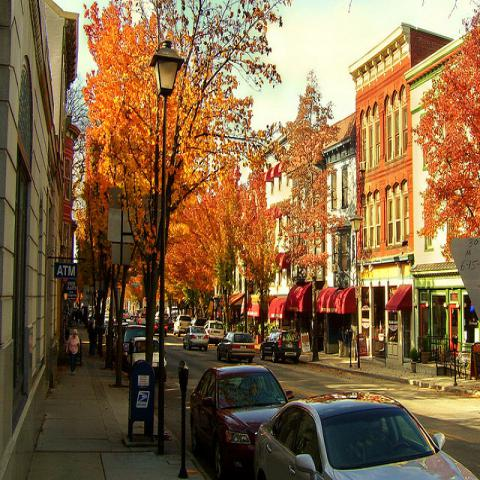car: (249, 383, 474, 475), (191, 362, 294, 479), (125, 335, 168, 380), (212, 328, 258, 364), (259, 328, 303, 362), (123, 326, 146, 359), (182, 325, 209, 351), (204, 320, 225, 342), (173, 316, 193, 337), (122, 309, 135, 322), (135, 316, 146, 325), (155, 311, 159, 330)
